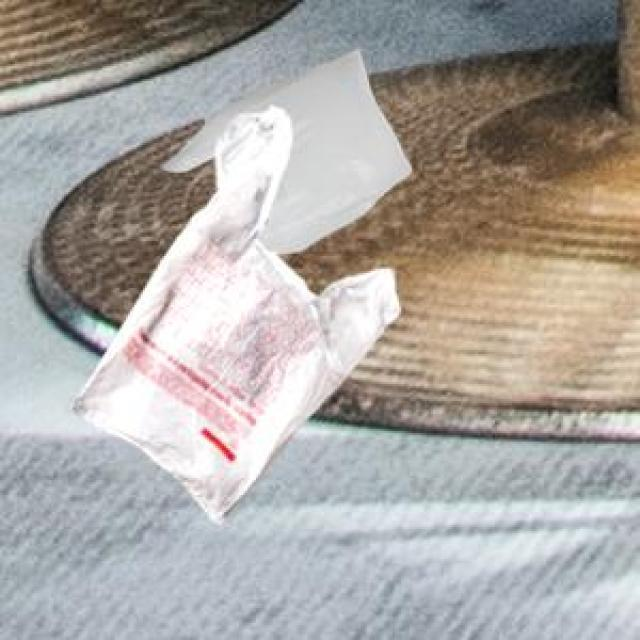waste: (75, 51, 410, 521)
